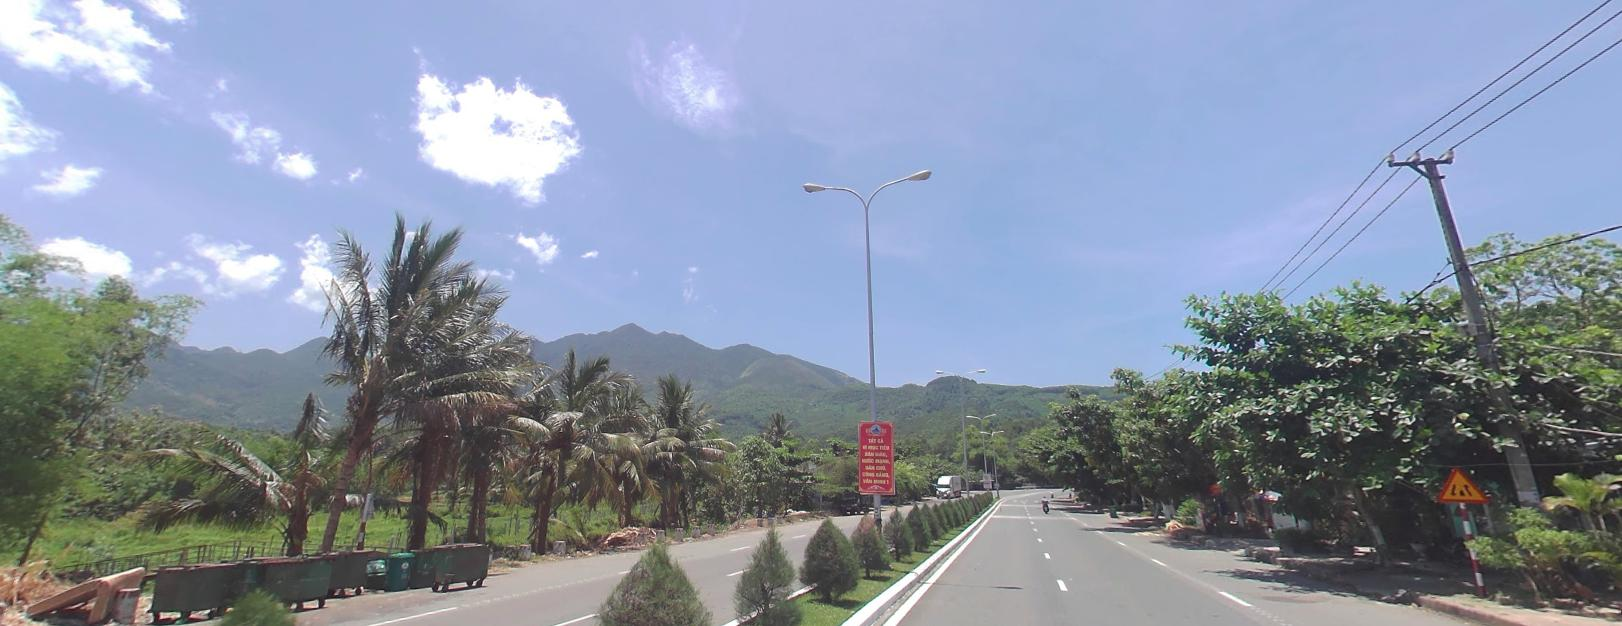Nguy hiem: (1431, 464, 1492, 501)
